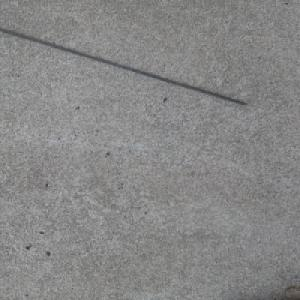LuggagePart: (0, 26, 248, 105)
